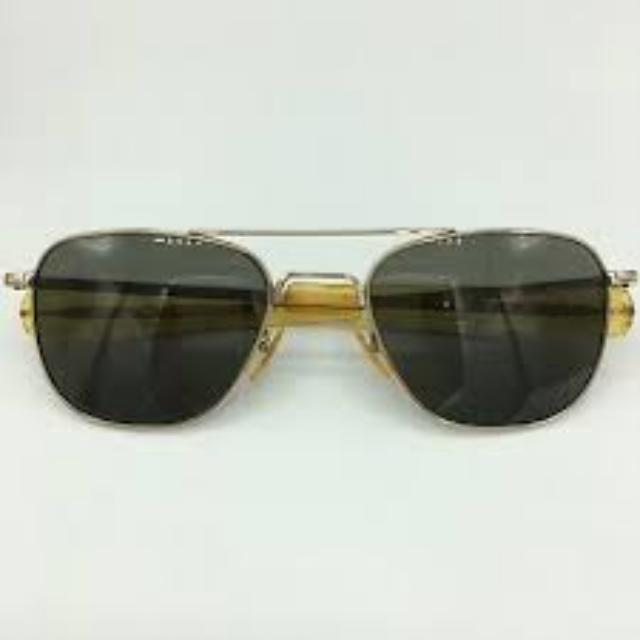sunglasses: (0, 220, 640, 430)
